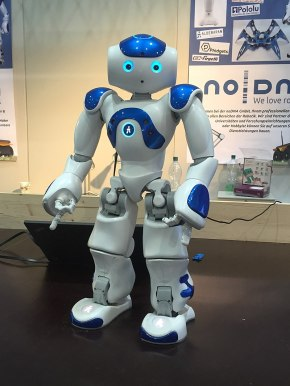nao: (35, 15, 241, 359)
